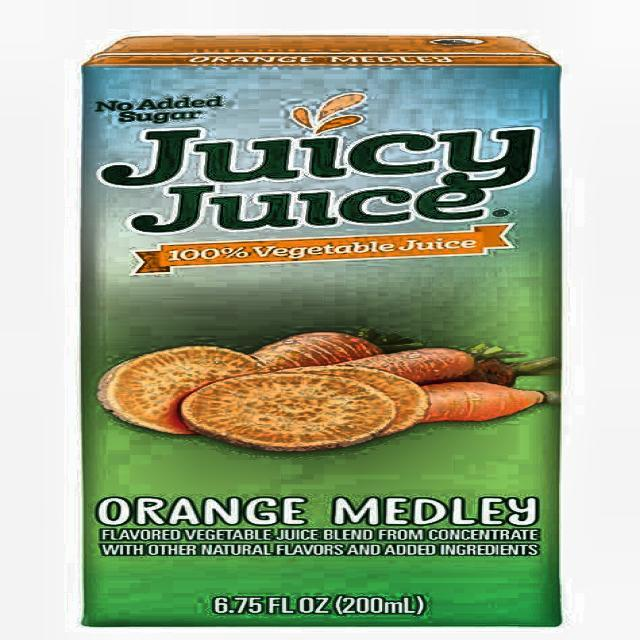cardboard: (78, 34, 563, 627)
